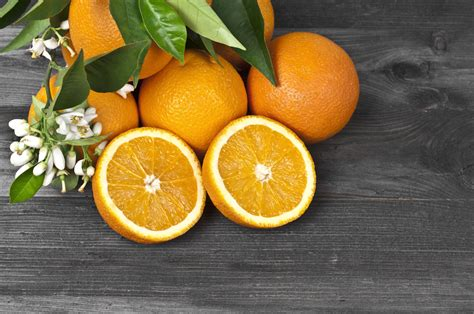orange: (246, 29, 363, 147), (134, 49, 252, 141)
